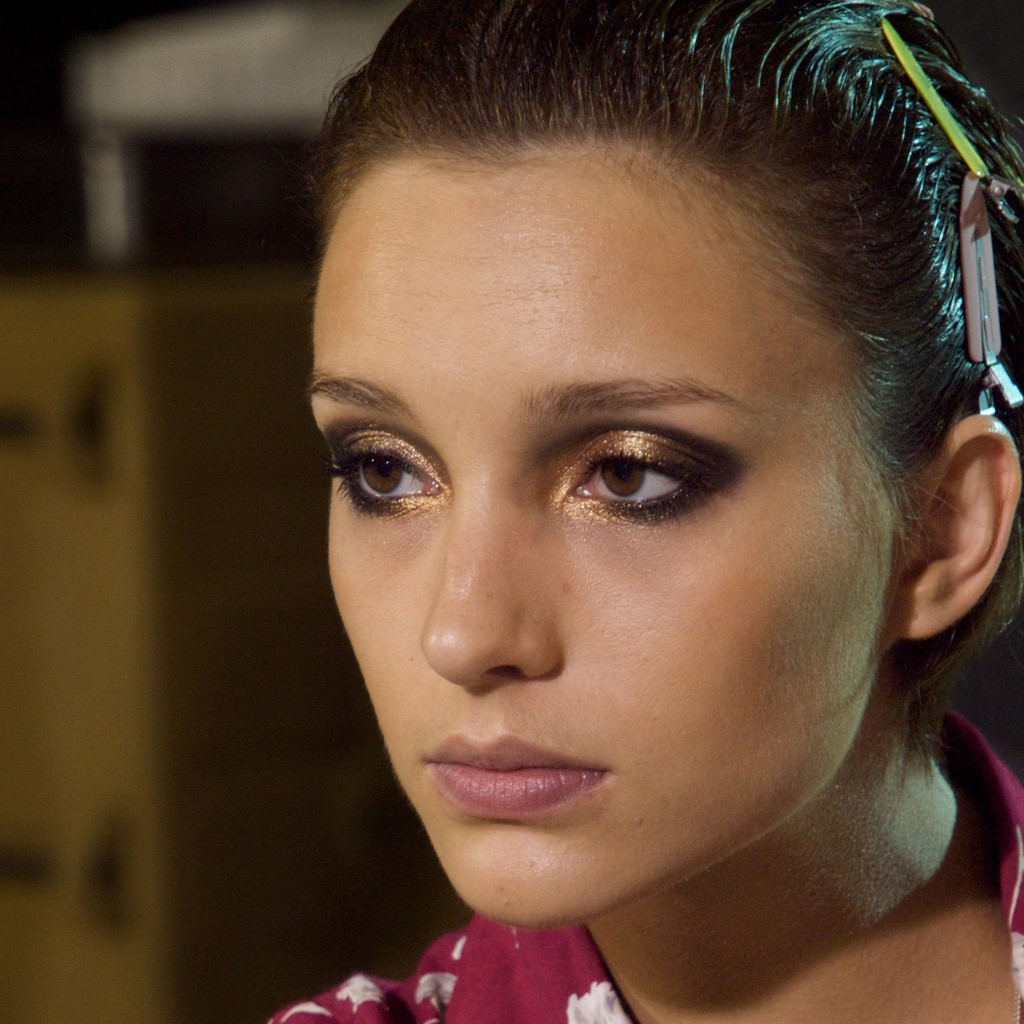sin_mascara: (302, 128, 881, 898)
